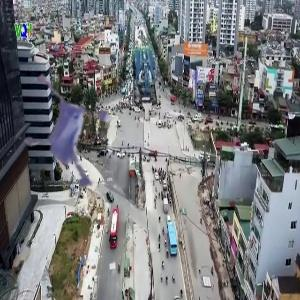drone: (13, 78, 148, 213)
